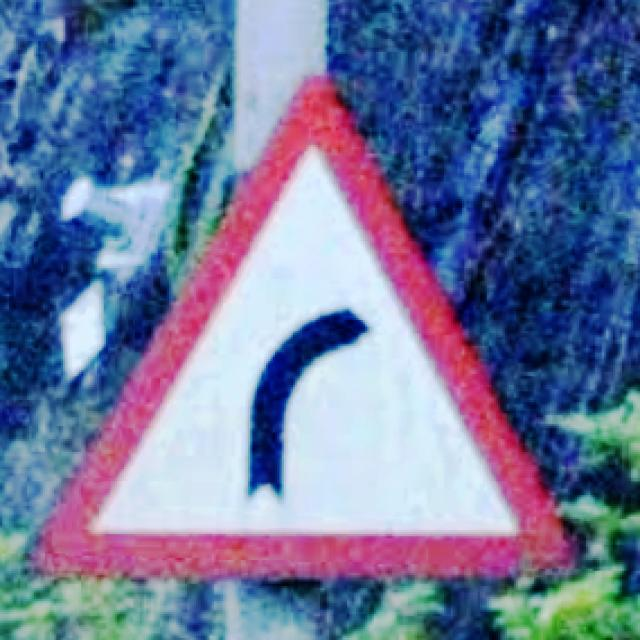rightbend: (36, 76, 570, 582)
